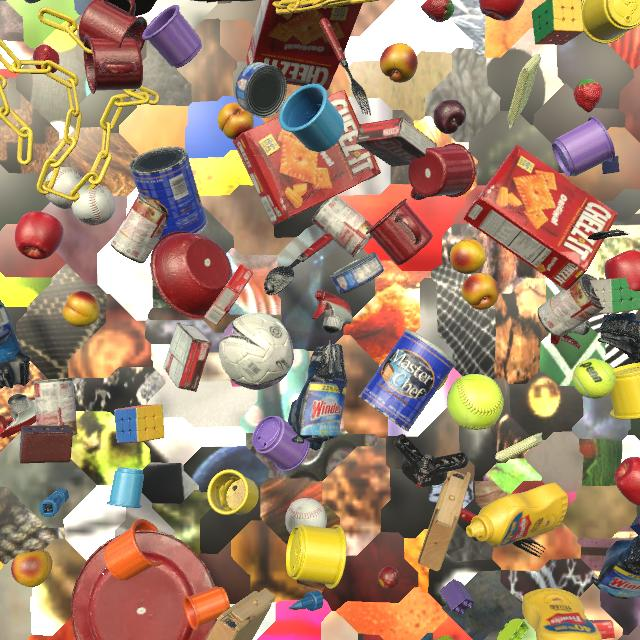ycb_002_master_chef_can: (359, 329, 456, 432), (129, 146, 208, 242)
ycb_003_cracker_box: (464, 145, 618, 291), (233, 90, 381, 226), (246, 0, 363, 90)
ycb_005_tomato_soup_can: (537, 274, 605, 337), (110, 194, 167, 263), (312, 195, 373, 258), (34, 378, 77, 435)
ycb_006_mustard_bottle: (466, 483, 568, 547), (522, 588, 602, 640)
ycb_007_tuna_fish_can: (235, 62, 287, 118), (330, 252, 384, 294)
ycb_008_pudding_box: (356, 117, 437, 167), (163, 322, 212, 392)
ycb_009_gelatin_box: (204, 264, 253, 326), (590, 620, 615, 639)
ycb_012_strawberry: (574, 79, 602, 112), (33, 44, 59, 73), (421, 0, 454, 22)
ycb_013_apple: (15, 211, 64, 260), (604, 250, 640, 291), (614, 457, 640, 506), (479, 0, 525, 21)
ycb_015_peach: (11, 549, 52, 587), (380, 43, 418, 83), (461, 273, 499, 310), (217, 103, 254, 140), (62, 291, 99, 327), (450, 238, 486, 274)
ycb_016_pear: (435, 635, 454, 640)
ycb_018_plum: (433, 100, 466, 134)
